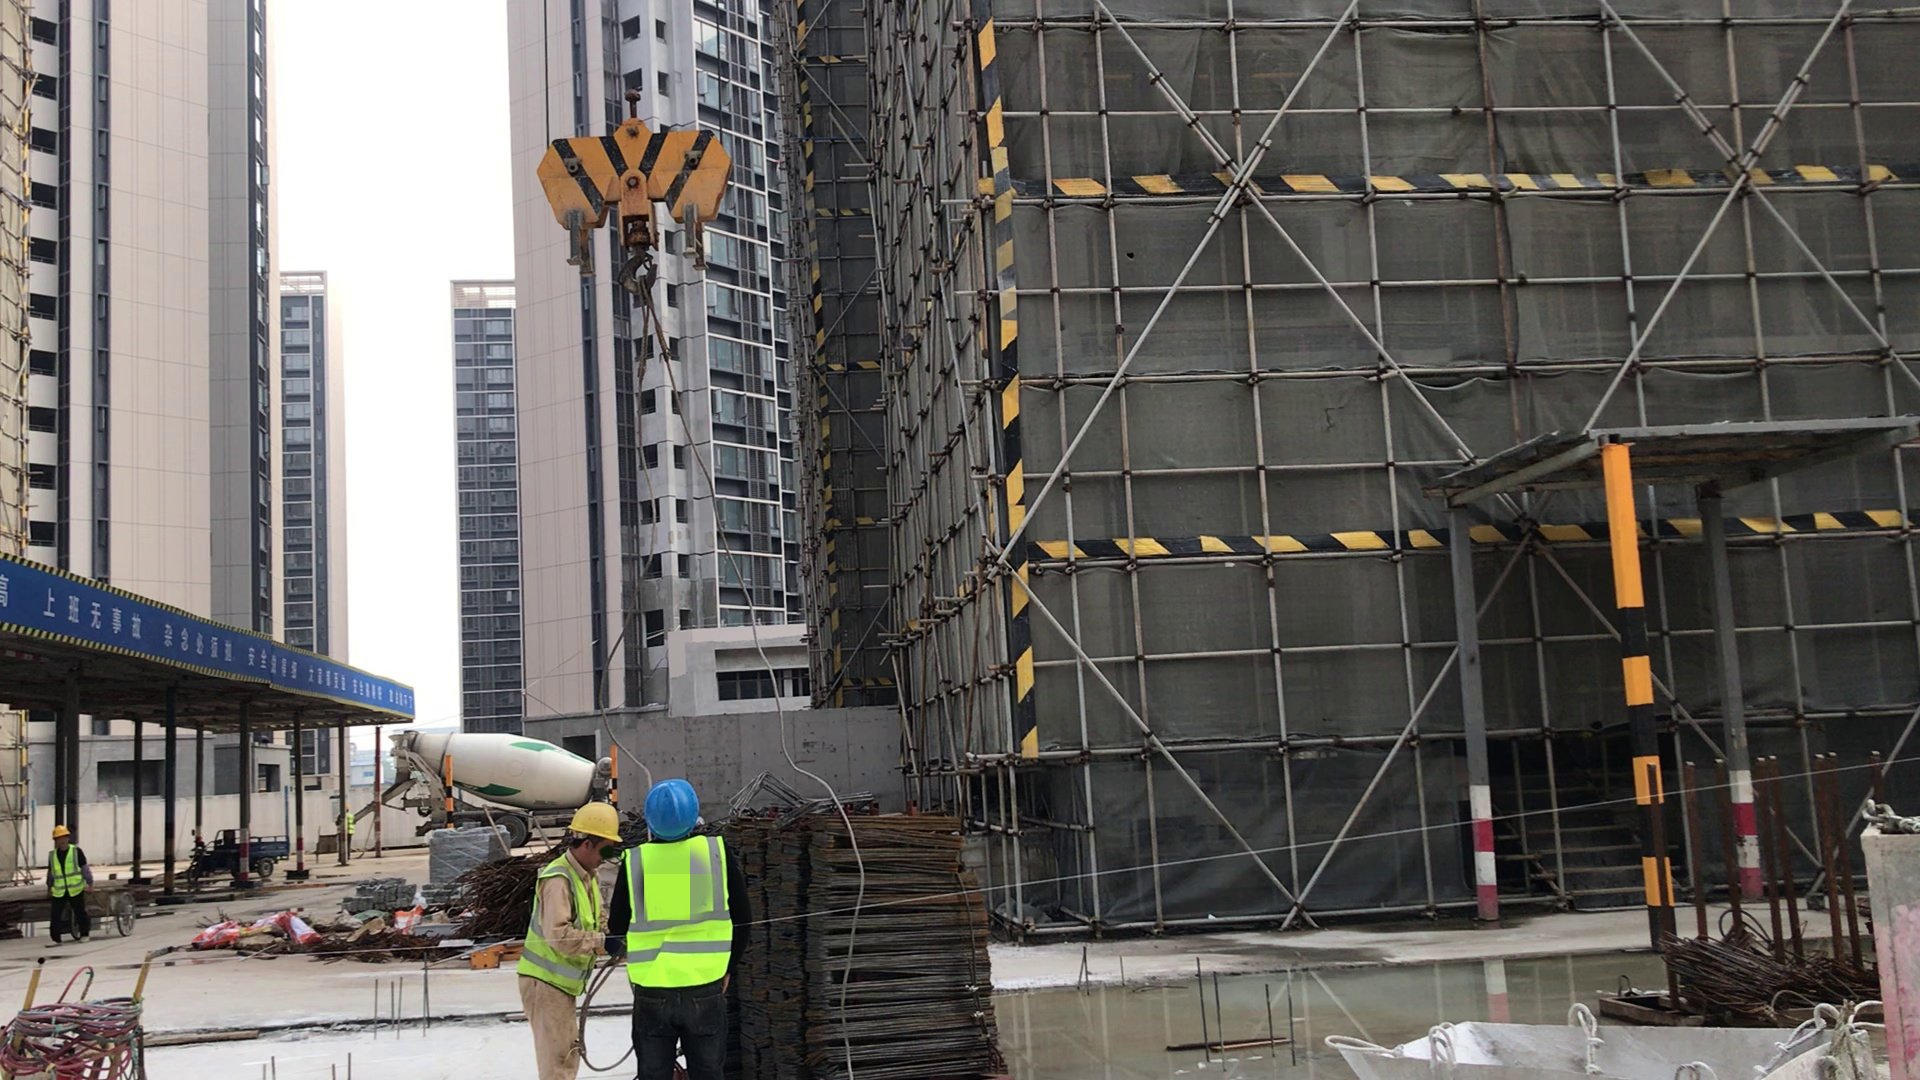handcart: (81, 876, 138, 941), (312, 830, 344, 864)
helmet: (643, 779, 702, 841), (567, 805, 624, 839), (51, 823, 74, 836)
hook: (537, 90, 734, 275)
hopper: (1323, 997, 1882, 1080)
person: (600, 776, 770, 1080), (518, 794, 625, 1080), (37, 819, 108, 953), (342, 804, 360, 862)
slogan: (2, 559, 418, 718)
vest: (620, 846, 729, 985), (520, 854, 602, 998), (46, 846, 84, 898), (346, 814, 354, 835)
